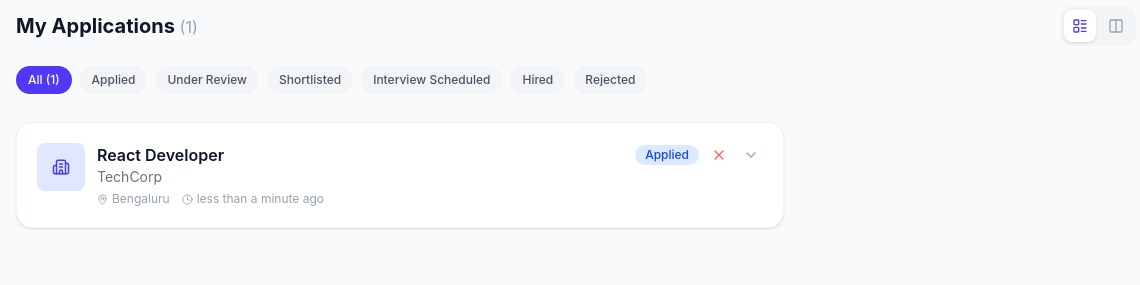
MyApplications › filters applications by clicking a status tab
expect the link "React Developer" is shown: met, box [97,145,224,165]
// Click 'shortlisted' filter — no shortlisted apps exist, should show empty state
Click the button "shortlisted" at point(310, 80), box [267,66,353,94]
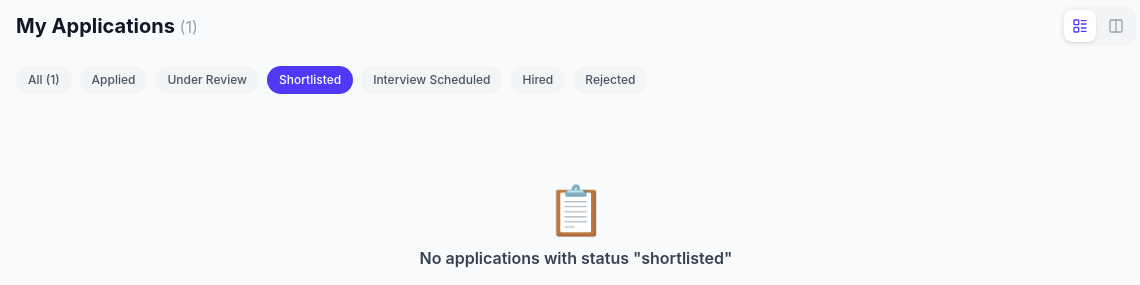
expect the heading "No applications with status \"shortlisted\"" is shown: met, box [420,248,732,268]
